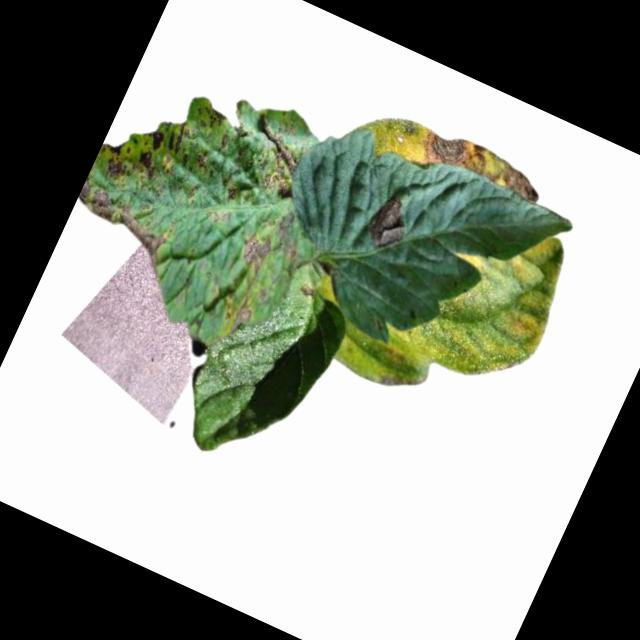Early_blight: (415, 119, 549, 210), (65, 176, 178, 269), (231, 111, 314, 198), (358, 187, 420, 257), (90, 135, 140, 187), (129, 123, 172, 181), (161, 116, 204, 169), (235, 229, 277, 277), (219, 289, 259, 337), (192, 144, 217, 172), (205, 104, 229, 127), (221, 181, 240, 201), (298, 279, 315, 296)
